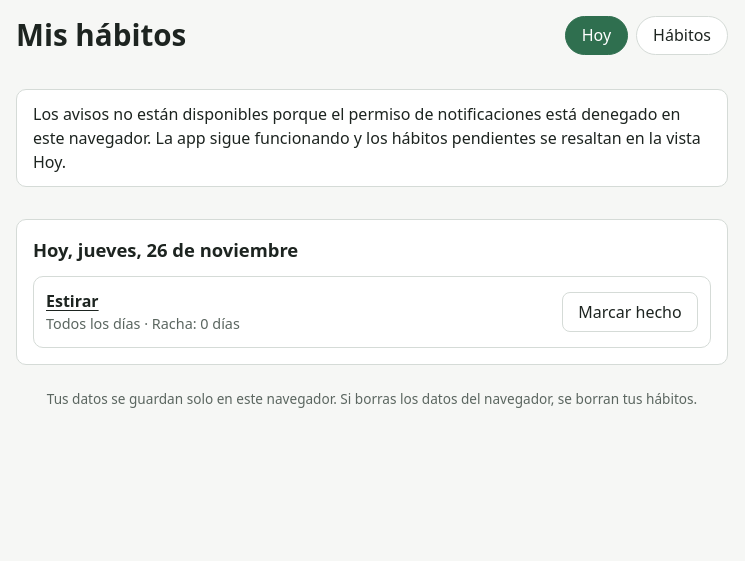
Test: Vista Hoy (FR2.1, FR2.2, FR6.4, FR7.2) › si el guardado falla muestra un error y no da el cambio por hecho
What coordinates should you click on to do the following:
click the button "Marcar hecho"
I would click on:
 (630, 312)
Its box is left=562, top=292, right=698, bottom=332.
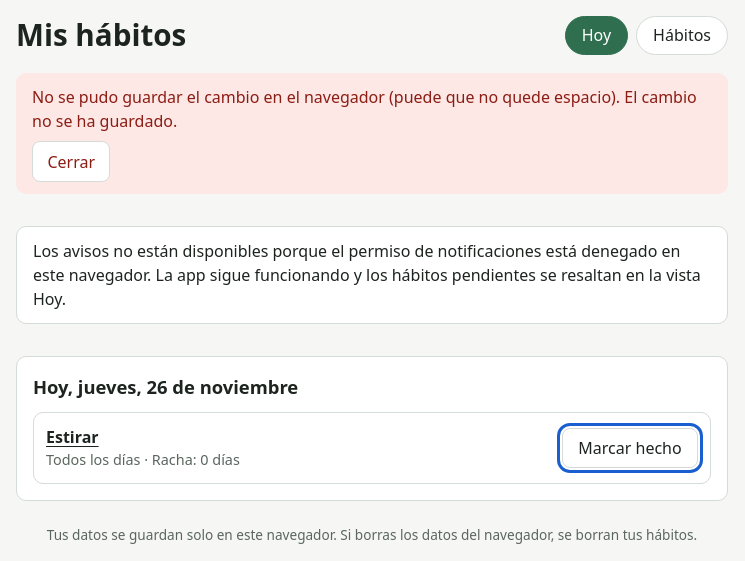
Expected: the message with test id "error-banner" shows "No se pudo guardar", left=32, top=86, right=697, bottom=132
